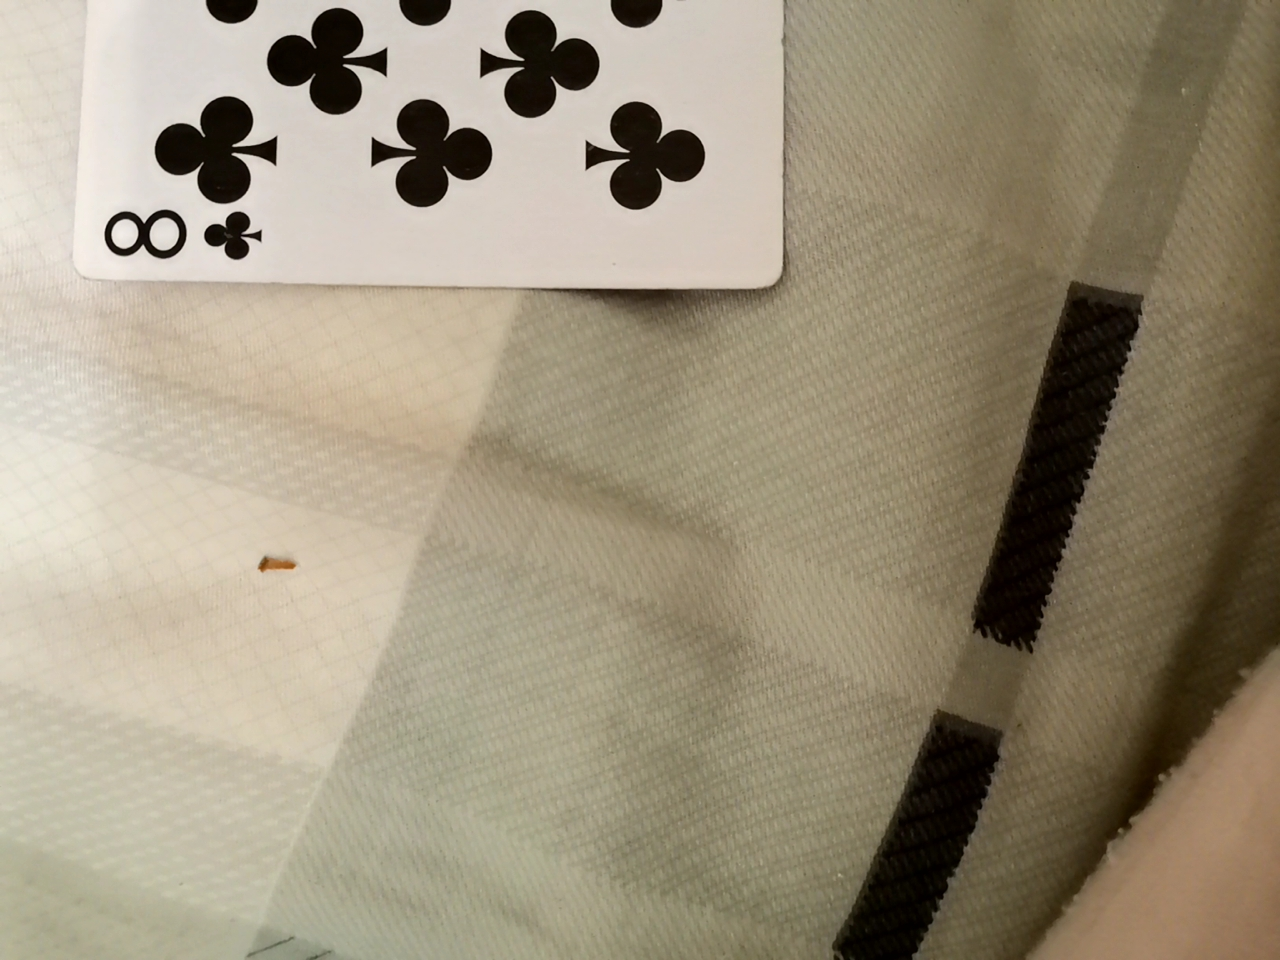mh 8: (55, 0, 791, 292)
